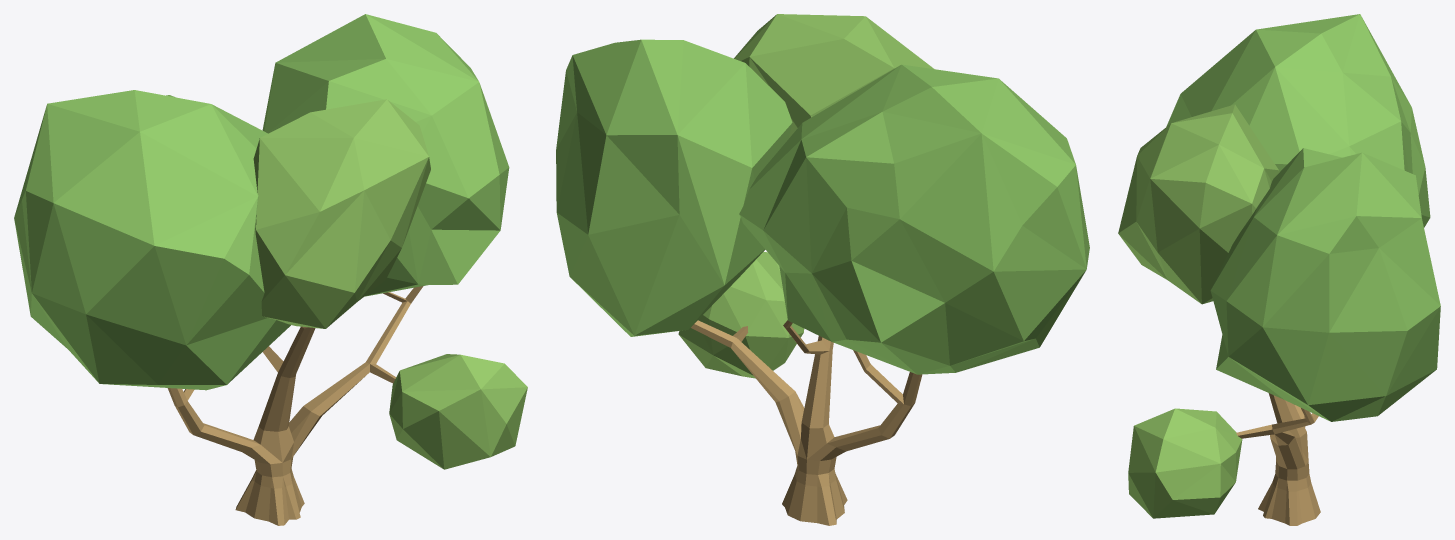
File: Oak_Tree_l_01_LOD.fbx
3 renders of one model, left to right at view 1: azimuth 30°, elevation 25°; view 2: azimuth 150°, elevation 25°; view 3: azimuth 270°, elevation 25°, orthographic. The views are drawn at different scales.
Visible parts, largest first — view 1: Oak_Tree_l_01_LOD0; view 2: Oak_Tree_l_01_LOD0; view 3: Oak_Tree_l_01_LOD0.
Part boxes in pixels (x1,y1,x2,y2): Oak_Tree_l_01_LOD0: [14, 14, 527, 525]; Oak_Tree_l_01_LOD0: [556, 14, 1089, 525]; Oak_Tree_l_01_LOD0: [1118, 14, 1440, 525].
Size of what is drawn, in the model's own units: 1268 by 1124 by 781.
